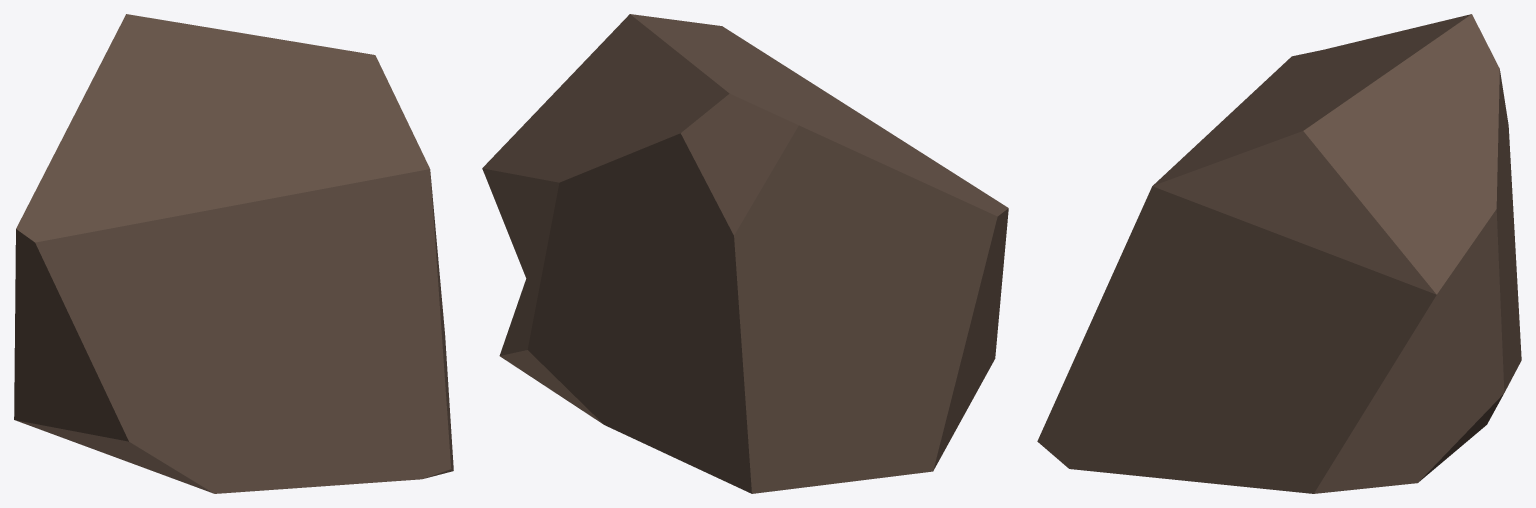
Rendered from stone05.fbx.
3 renders of one model, left to right at view 1: azimuth 30°, elevation 25°; view 2: azimuth 150°, elevation 25°; view 3: azimuth 270°, elevation 25°, orthographic. The views are drawn at different scales.
Parts seen in each view (by area): view 1: stone05; view 2: stone05; view 3: stone05.
Part boxes in pixels (<box>): stone05: <box>14,14,453,493</box>; stone05: <box>482,14,1008,493</box>; stone05: <box>1037,14,1521,493</box>.
Size of the model in its own units: 0.6359 by 0.5837 by 0.5069.
